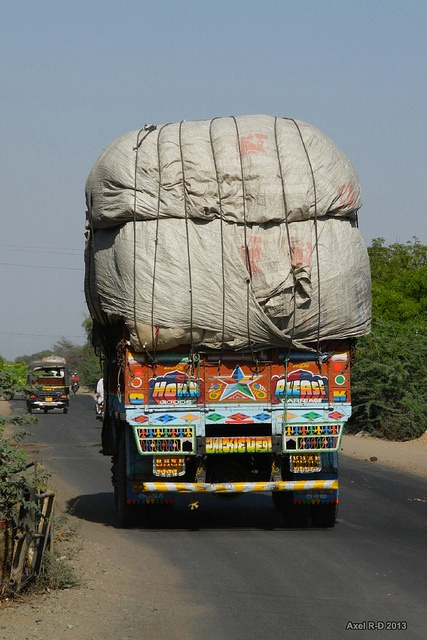non-vehicle: (92, 388, 104, 422), (70, 381, 78, 394)
